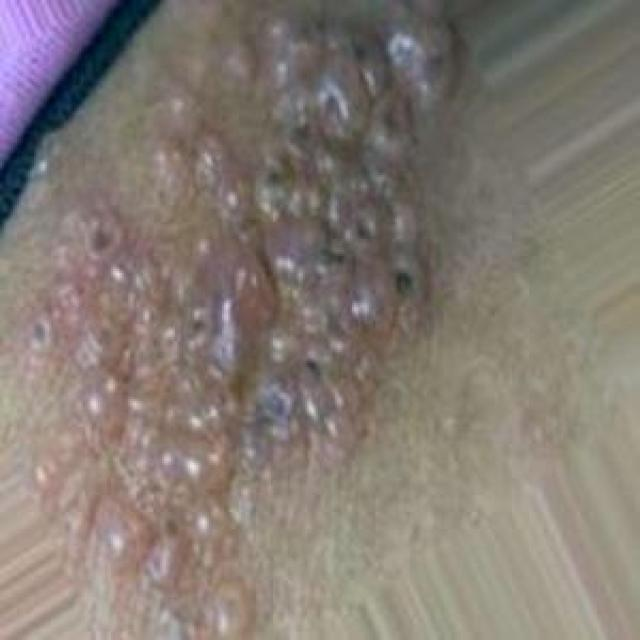Shingles: (36, 12, 457, 640)
